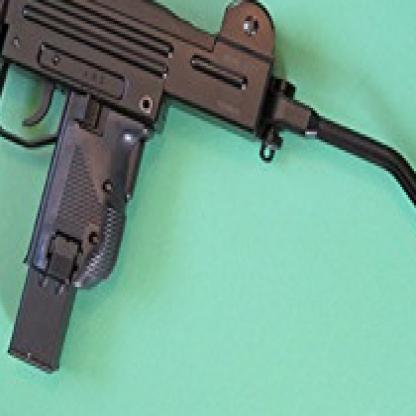gun: (0, 0, 276, 393)
